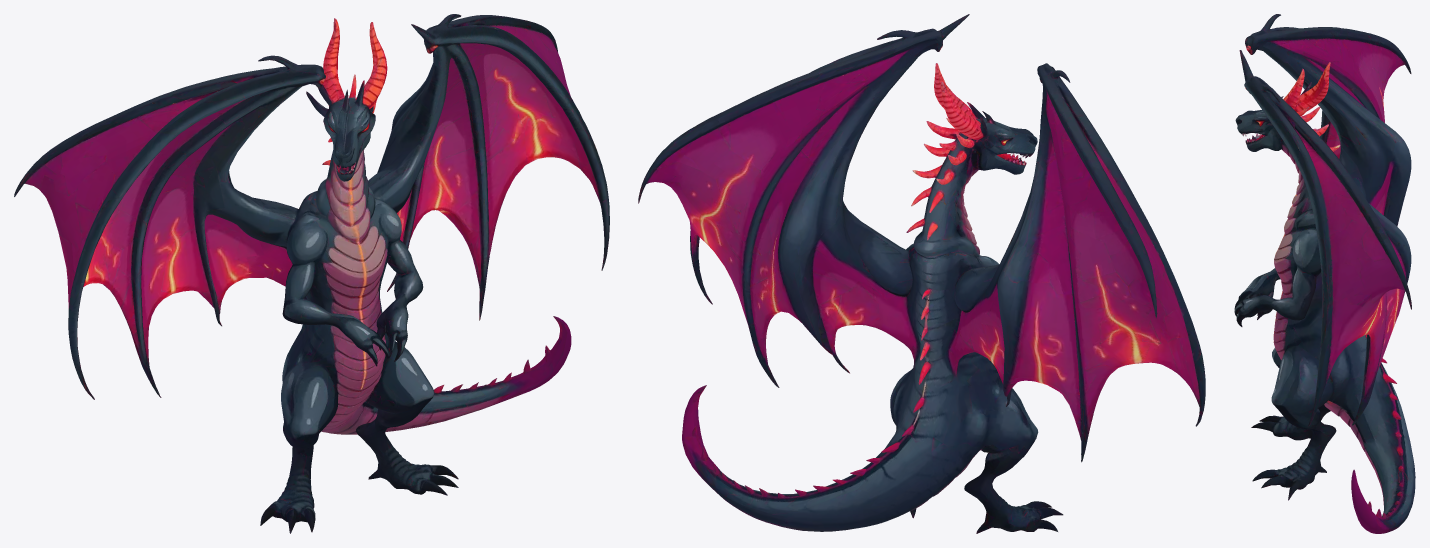
The model's file is volcano-dragon.glb.
The picture shows the model from 3 angles, left to right: view 1: azimuth 30°, elevation 25°; view 2: azimuth 150°, elevation 25°; view 3: azimuth 270°, elevation 25°; orthographic projection. The views are drawn at different scales.
Visible parts, largest first — view 1: Mesh_0; view 2: Mesh_0; view 3: Mesh_0.
Part boxes in pixels (x1,y1,x2,y2): Mesh_0: (14, 14, 609, 533); Mesh_0: (638, 14, 1205, 533); Mesh_0: (1234, 14, 1415, 533).
Bounding box in the file's own units: 1.9 × 1.65 × 0.6433.
1 material, 1 textured.
